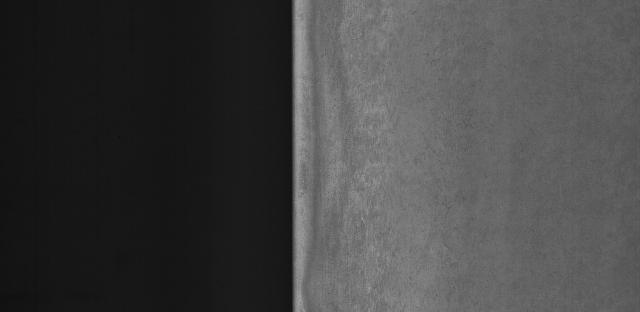silk_spot: (323, 22, 428, 303)
